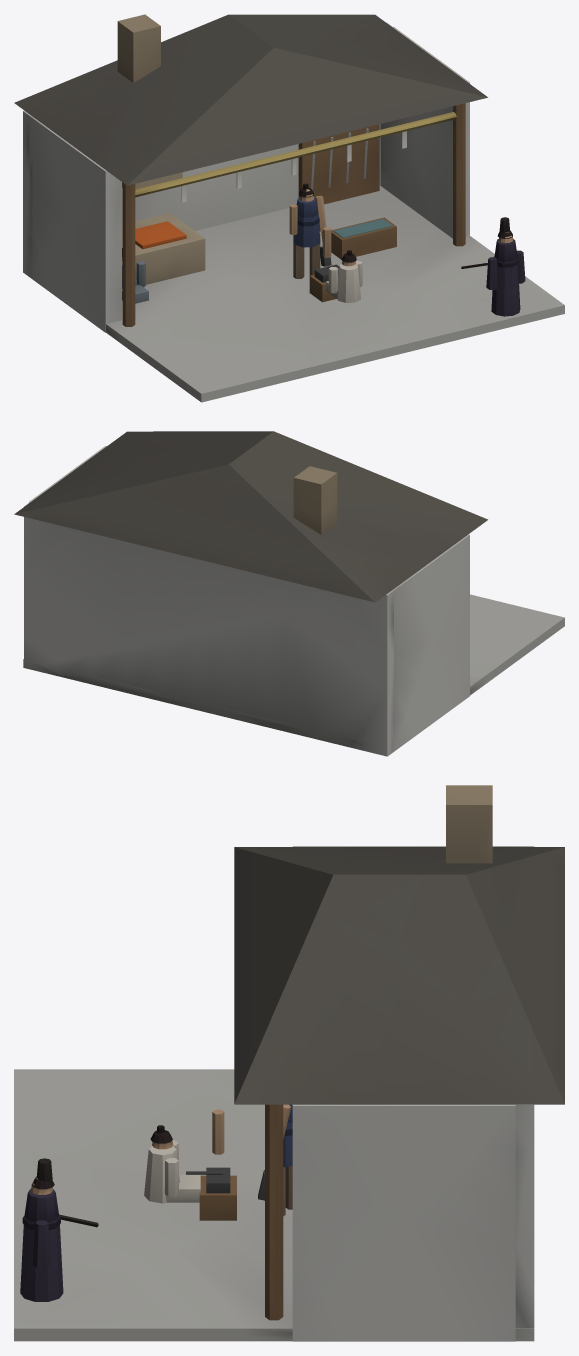
Rendered from forge.glb.
The picture shows the model from 3 angles, top to bottom: view 1: azimuth 30°, elevation 25°; view 2: azimuth 150°, elevation 25°; view 3: azimuth 270°, elevation 25°; orthographic projection. The views are drawn at different scales.
Visible parts, largest first — view 1: base; view 2: base; view 3: base.
Part boxes in pixels (bbox=[...]): base: bbox=[14, 14, 564, 402]; base: bbox=[14, 431, 564, 756]; base: bbox=[14, 785, 564, 1341].
Bounding box in the file's own units: 6.62 × 4.21 × 5.93.
